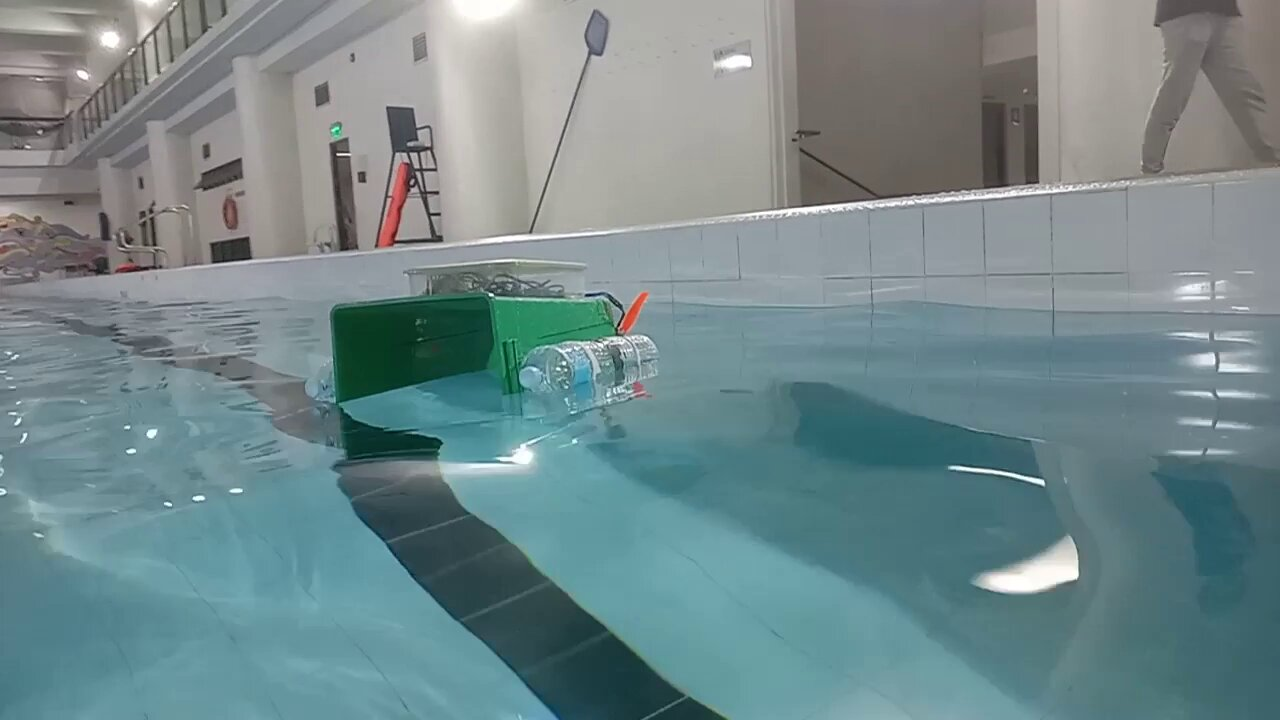drone: (303, 255, 662, 404)
